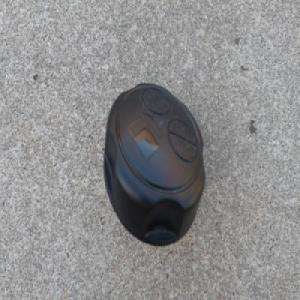FuelCap: (102, 80, 206, 248)
